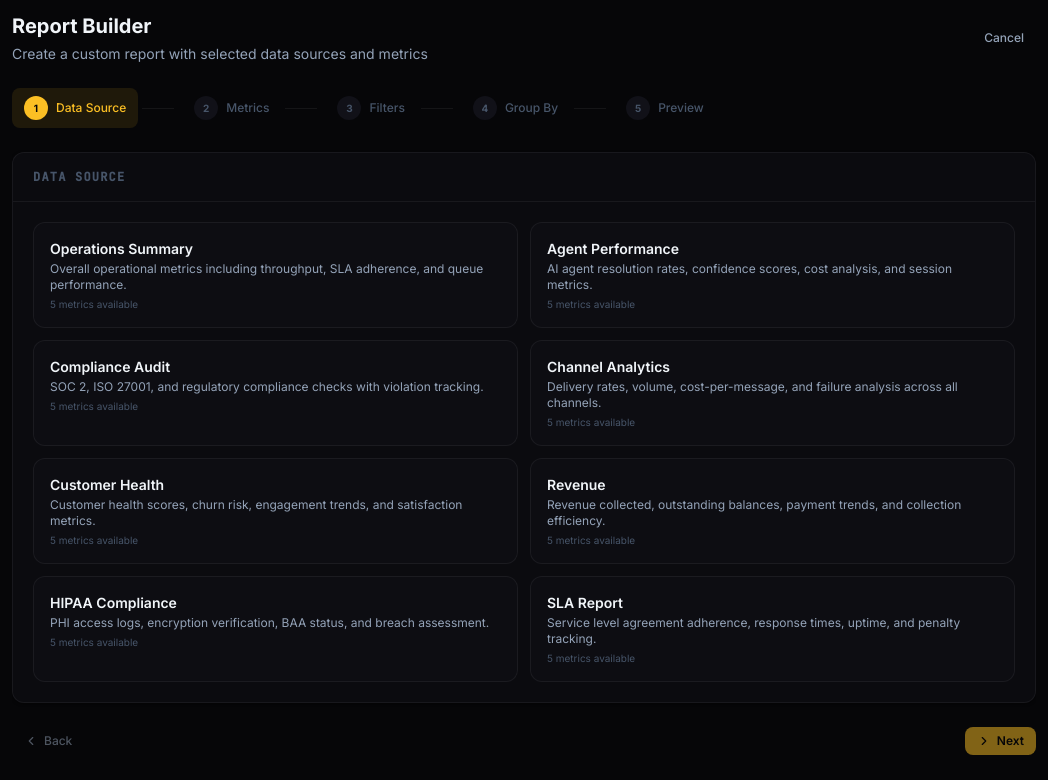
Test case: ReportBuilder › navigates to Filters step
Click the text "Operations Summary": (122, 248) 50,240 -> 193,257
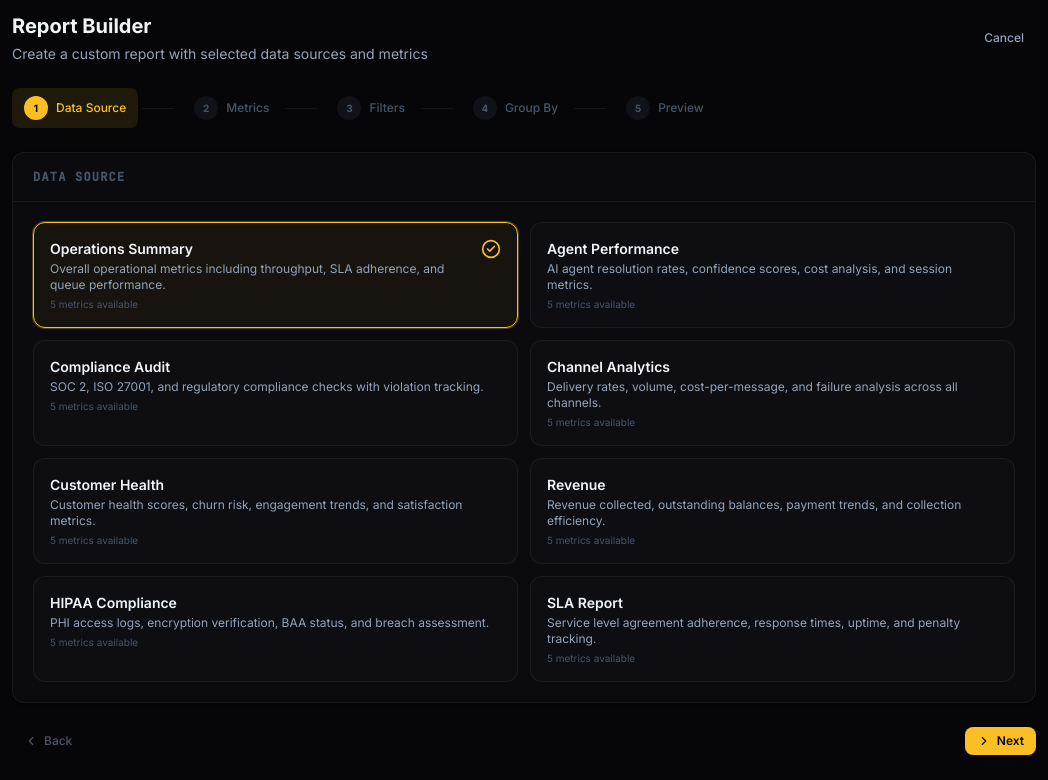
Click the button "Next": (1000, 741) 965,727 -> 1036,755
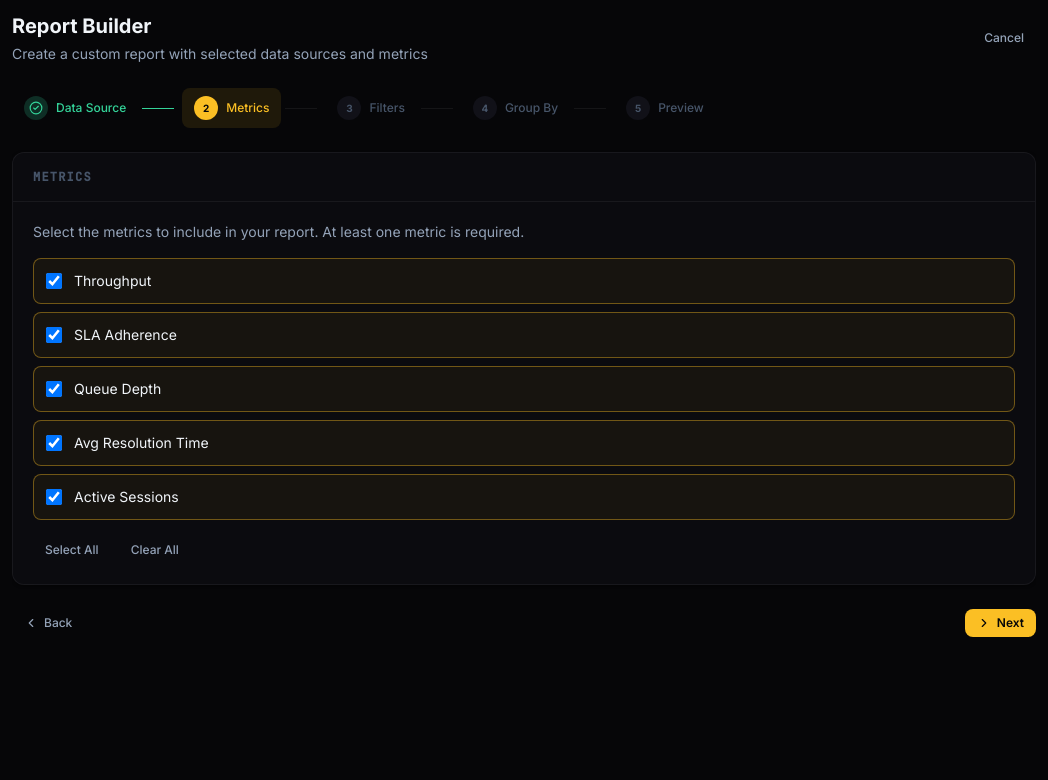
Click the button "Next": (1000, 623) 965,609 -> 1036,637
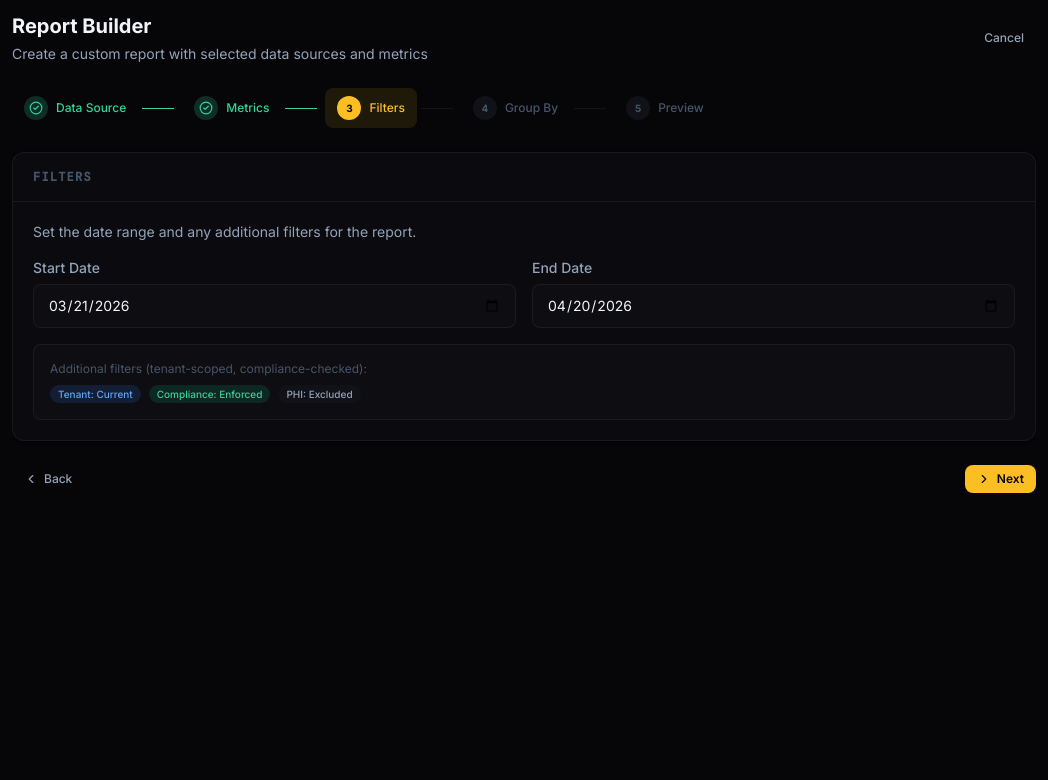
Now the text "Set the date range and any additional filters for the report." is shown, box 33,223 -> 416,240
